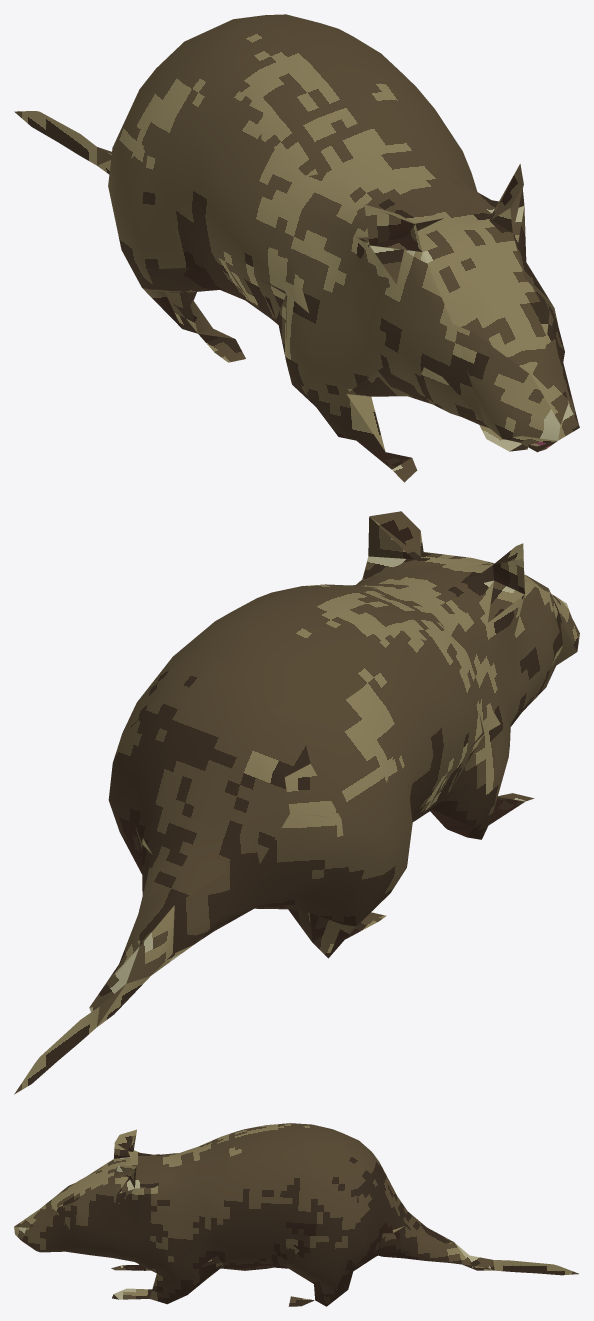
The model's file is street_rat.glb.
The picture shows the model from 3 angles, top to bottom: view 1: azimuth 30°, elevation 25°; view 2: azimuth 150°, elevation 25°; view 3: azimuth 270°, elevation 25°; orthographic projection. The views are drawn at different scales.
Parts seen in each view (by area): view 1: mesh; view 2: mesh; view 3: mesh.
Boxes of the visible parts, bbox=[...] form: mesh: bbox=[14, 14, 579, 482]; mesh: bbox=[14, 511, 579, 1094]; mesh: bbox=[14, 1123, 578, 1306].
Size of the model in its own units: 12.98 by 14 by 45.21.
Materials: 1 (1 with a texture image).
